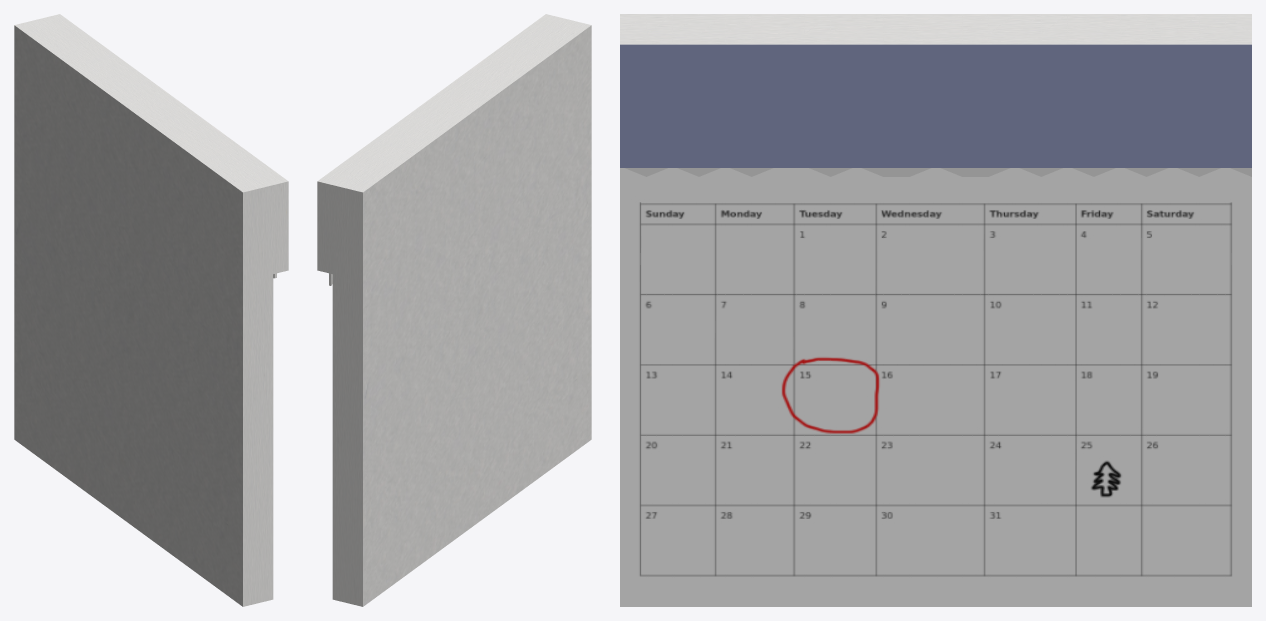
Rendered from fixedcal.glb.
3 views of the same model, side by side, from view 1: azimuth 30°, elevation 25°; view 2: azimuth 150°, elevation 25°; view 3: azimuth 270°, elevation 25° (orthographic). The views are drawn at different scales.
Visible parts, largest first — view 1: Cube; view 2: Cube; view 3: Cube.
Part boxes in pixels (<box>): Cube: <box>14,14,288,606</box>; Cube: <box>317,14,591,606</box>; Cube: <box>620,14,1251,606</box>.
Bounding box in the file's own units: 0.5188 × 4.5 × 4.5.
4 materials, 3 textured.
